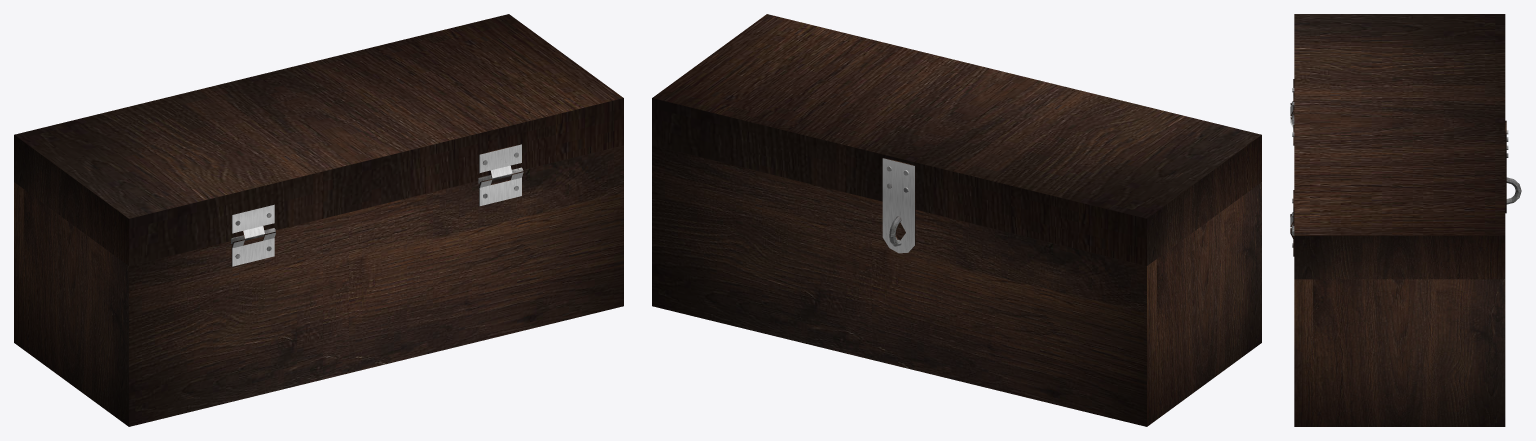
3 views of the same model, side by side, from view 1: azimuth 30°, elevation 25°; view 2: azimuth 150°, elevation 25°; view 3: azimuth 270°, elevation 25° (orthographic). The views are drawn at different scales.
Visible parts, largest first — view 1: Cube.009; view 2: Cube.009; view 3: Cube.009.
Boxes of the visible parts, bbox=[...] form: Cube.009: bbox=[14, 14, 623, 426]; Cube.009: bbox=[652, 14, 1261, 426]; Cube.009: bbox=[1290, 14, 1521, 426].
Bounding box in the file's own units: 127 × 56.1 × 51.16.
3 materials, 3 textured.
